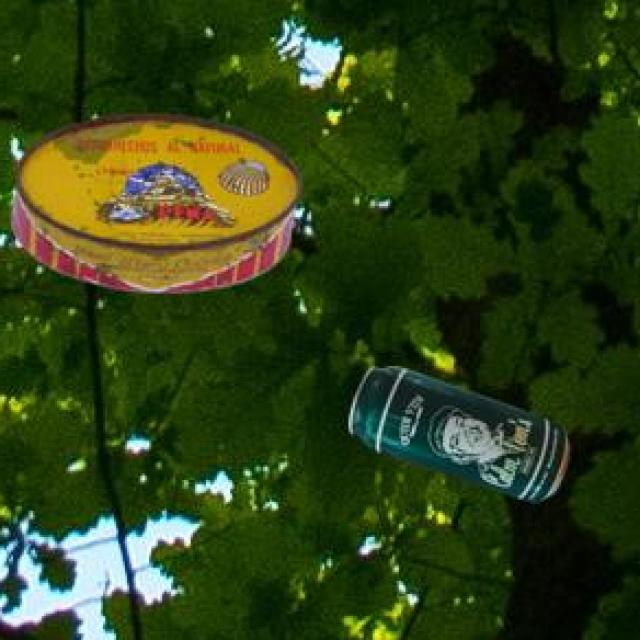logam: (14, 117, 306, 295), (352, 369, 573, 505)
